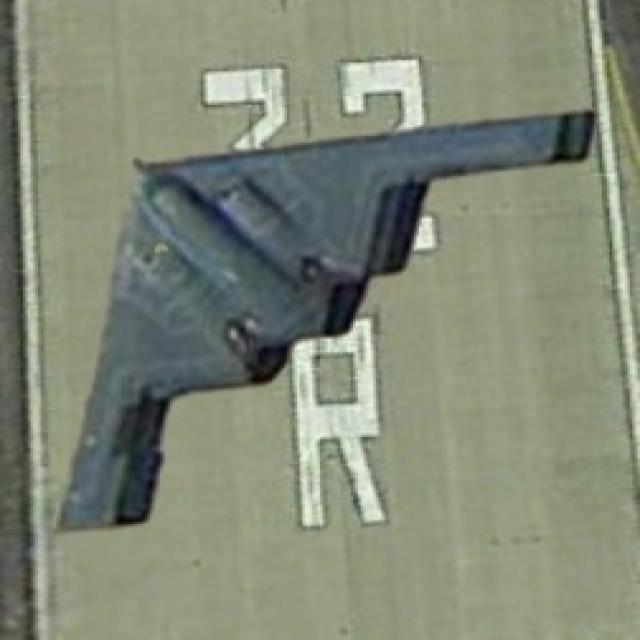B-2_TopDown: (51, 100, 597, 536)
